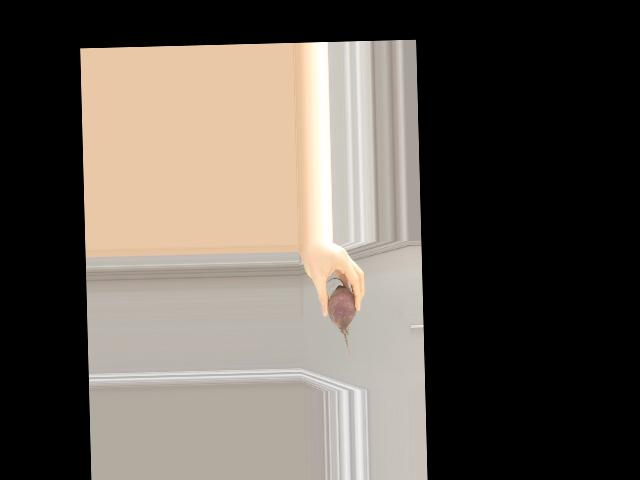beet: (326, 278, 356, 366)
